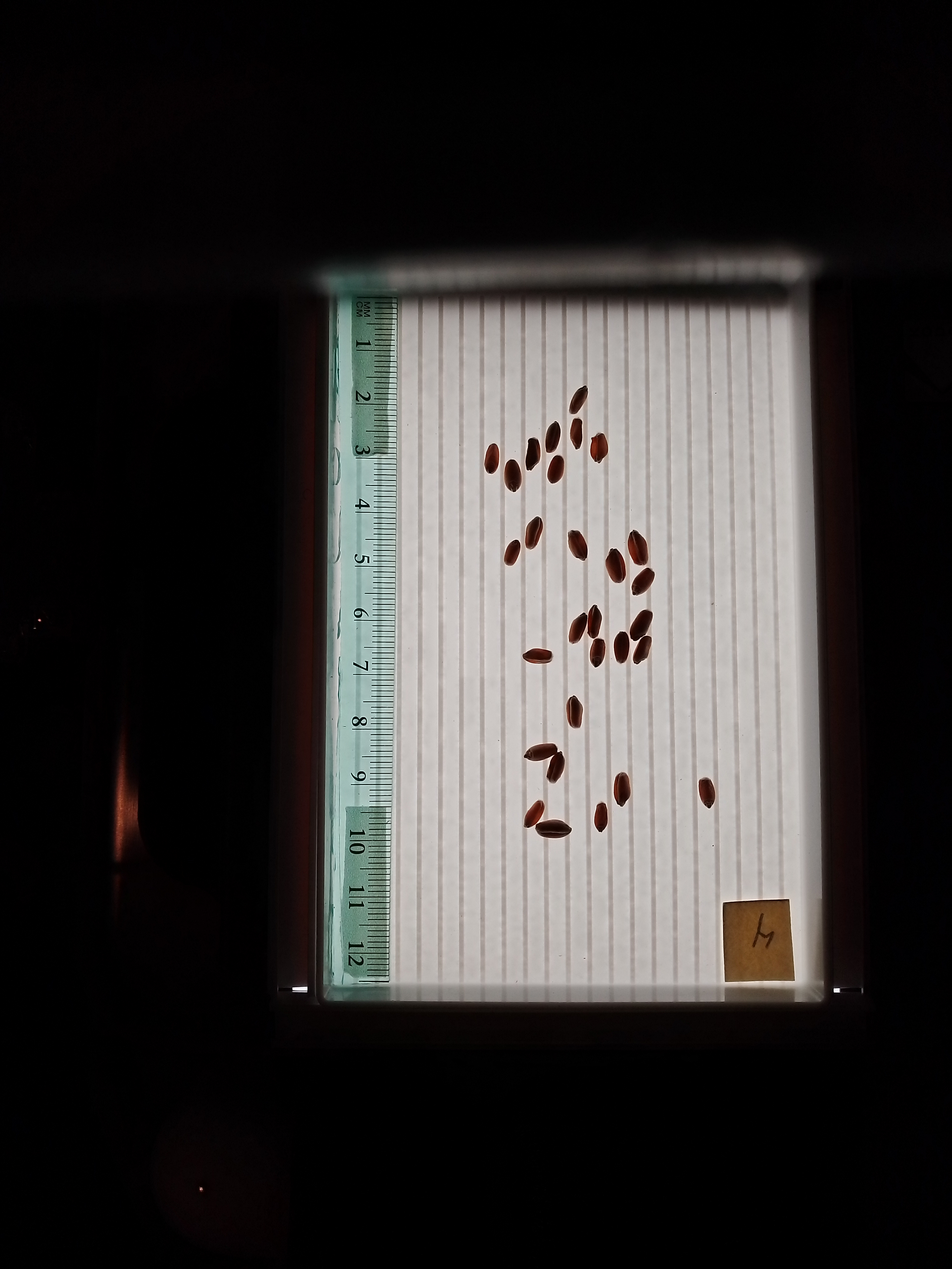seed mask: (605, 549, 626, 583), (628, 531, 649, 565), (537, 819, 571, 839), (630, 611, 652, 639), (568, 530, 588, 560), (632, 569, 654, 595), (614, 773, 631, 806), (547, 752, 565, 783), (525, 743, 556, 761), (526, 517, 543, 549), (566, 696, 583, 728), (524, 801, 544, 828), (569, 387, 588, 414), (590, 434, 608, 462), (569, 615, 587, 643), (545, 422, 561, 453), (505, 460, 521, 491), (633, 636, 651, 663), (526, 438, 541, 470), (699, 778, 715, 807), (484, 444, 499, 474), (614, 633, 629, 663), (524, 648, 552, 664), (588, 606, 602, 637), (548, 457, 564, 483), (590, 640, 605, 667), (570, 419, 583, 449), (595, 803, 608, 832), (505, 540, 520, 565)
